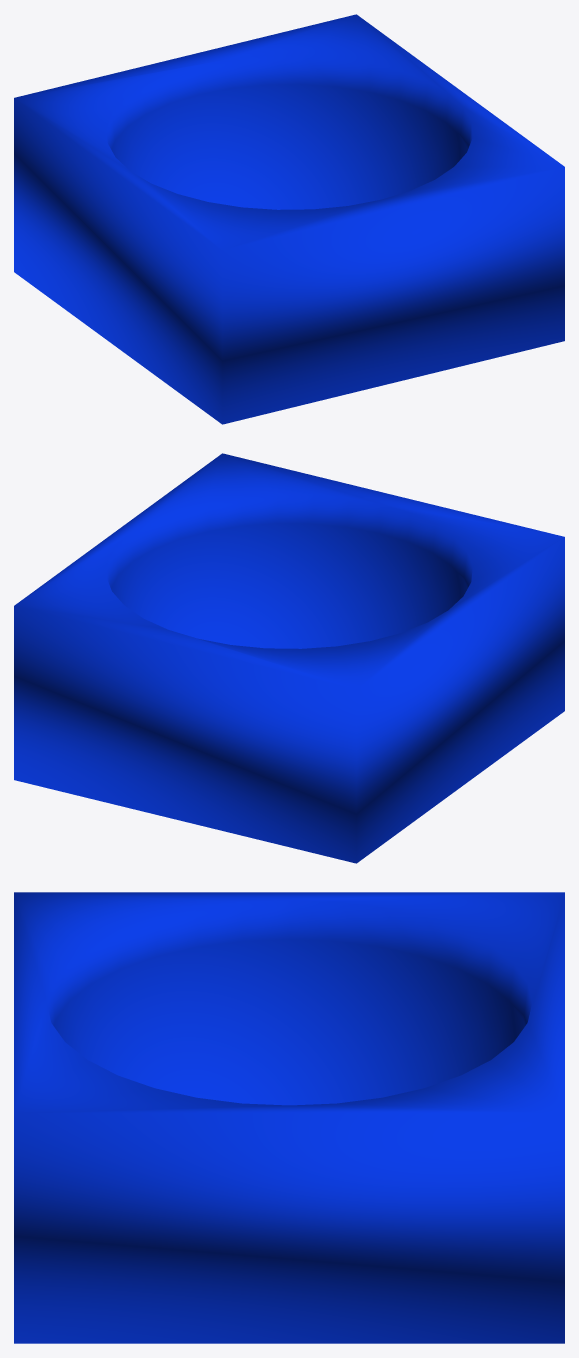
3 views of the same model, one above another, from view 1: azimuth 30°, elevation 25°; view 2: azimuth 150°, elevation 25°; view 3: azimuth 270°, elevation 25° (orthographic). The views are drawn at different scales.
Parts seen in each view (by area): view 1: Cube; view 2: Cube; view 3: Cube.
Boxes of the visible parts, box(x1,y1,x2,y2) form: Cube: box(14, 14, 564, 424); Cube: box(14, 453, 564, 863); Cube: box(14, 892, 564, 1343).
Size of the model in its own units: 6.66 by 3.23 by 7.02.
